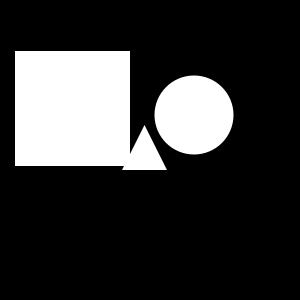circle: (15, 51, 130, 166)
rectangle: (154, 76, 234, 154)
triangle: (122, 125, 167, 170)
